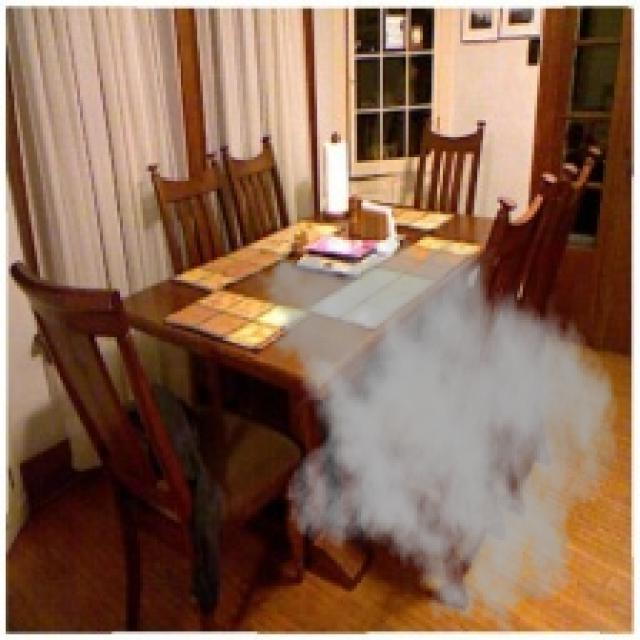smoke: (249, 232, 620, 637)
